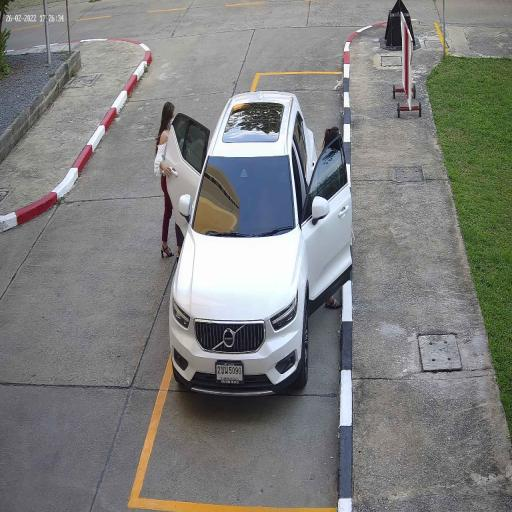car: (169, 94, 311, 398)
